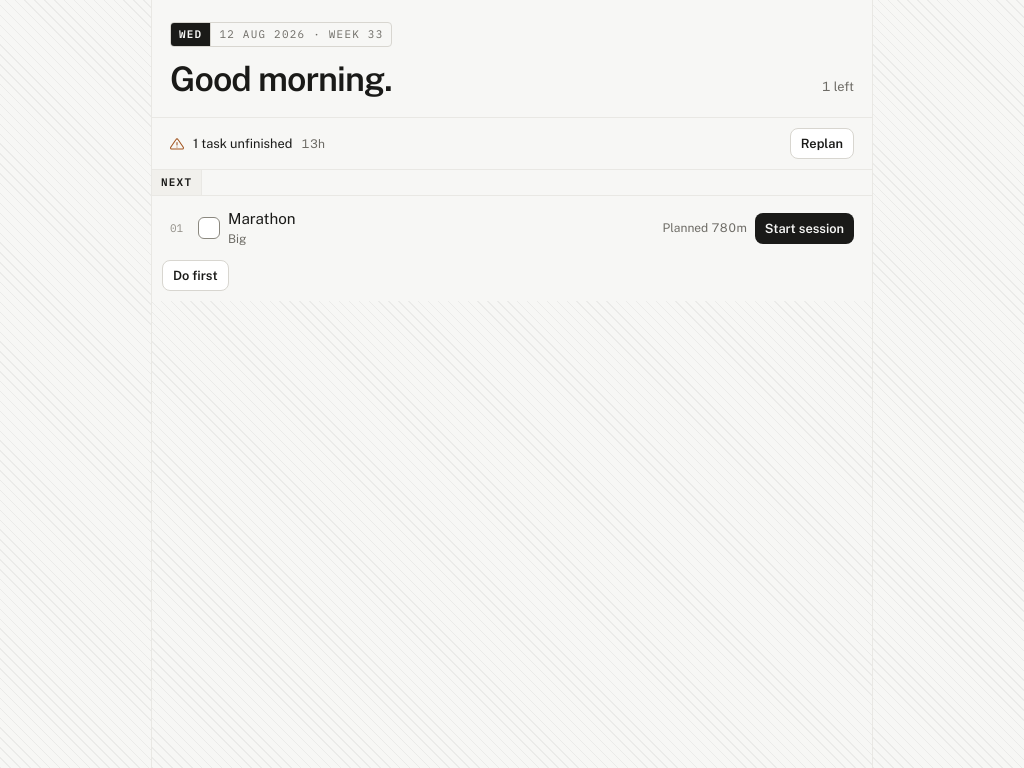
Scenario: recovering a day that slipped › names the work that will not fit, and changes nothing about it
Click the button "Replan" at (822, 144), box [790,128,854,159]
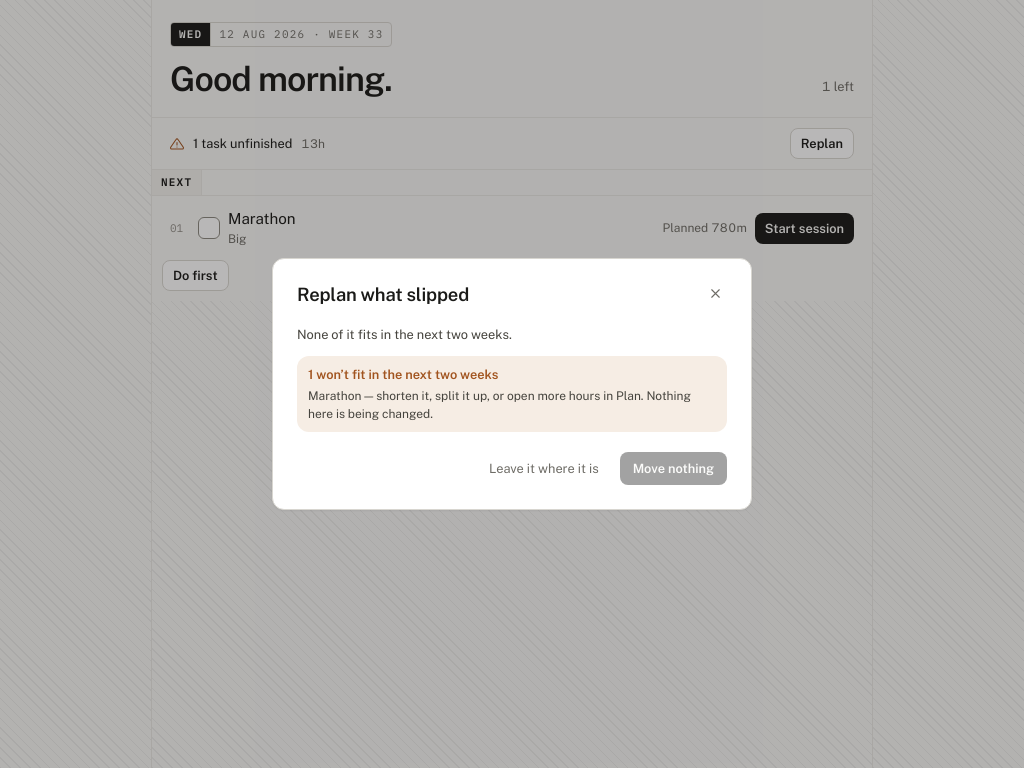
Now the text "1 won’t fit in the next two weeks" is shown, box [308,367,498,382]
Now the button "Move nothing" is disabled, box [620,452,727,485]
